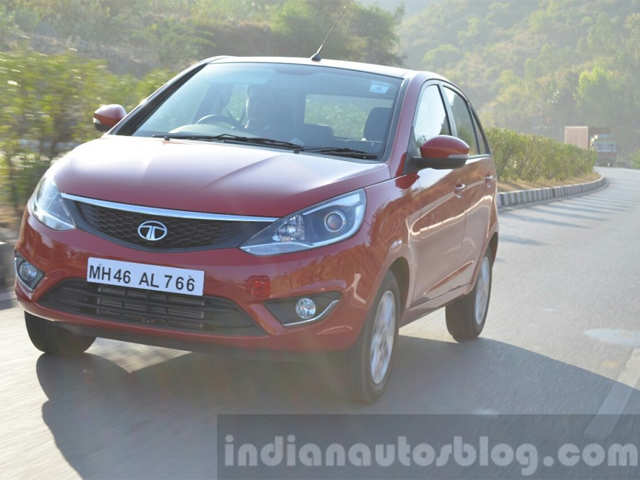number_plate: (84, 253, 207, 305)
